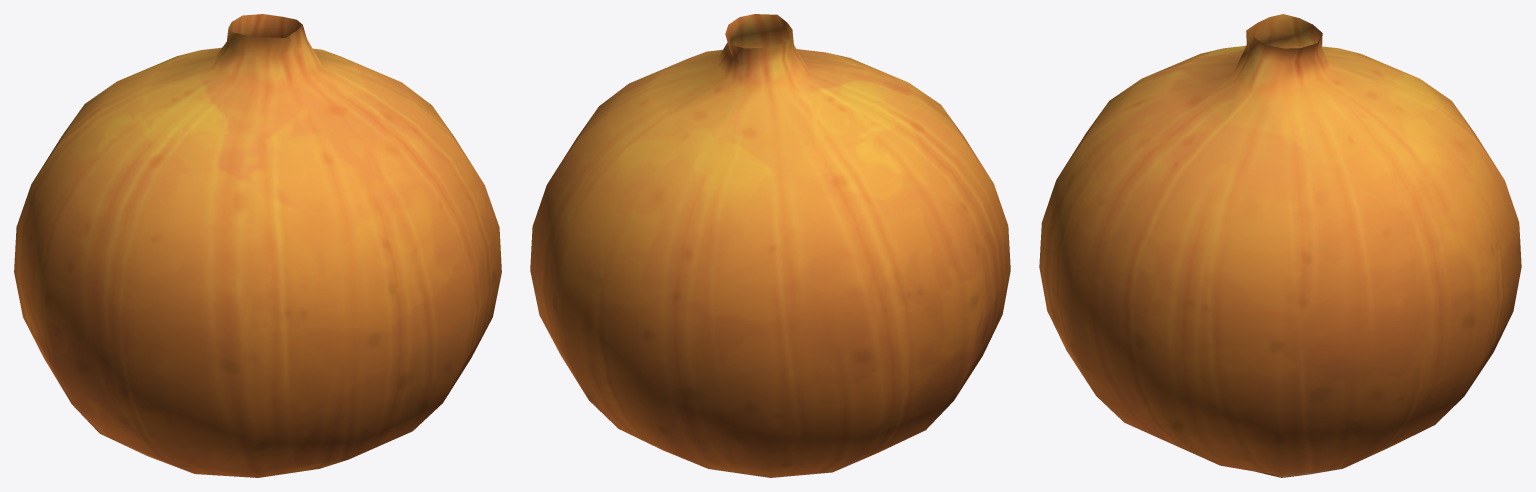
File: sogan1.fbx
The picture shows the model from 3 angles, left to right: view 1: azimuth 30°, elevation 25°; view 2: azimuth 150°, elevation 25°; view 3: azimuth 270°, elevation 25°; orthographic projection.
Parts seen in each view (by area): view 1: SM_OnionA_Onion_0; view 2: SM_OnionA_Onion_0; view 3: SM_OnionA_Onion_0.
Part boxes in pixels (x1,y1,x2,y2): SM_OnionA_Onion_0: (14,14,501,477); SM_OnionA_Onion_0: (530,14,1010,477); SM_OnionA_Onion_0: (1039,14,1521,477).
Size of the model in its own units: 24.31 by 23.95 by 24.29.
